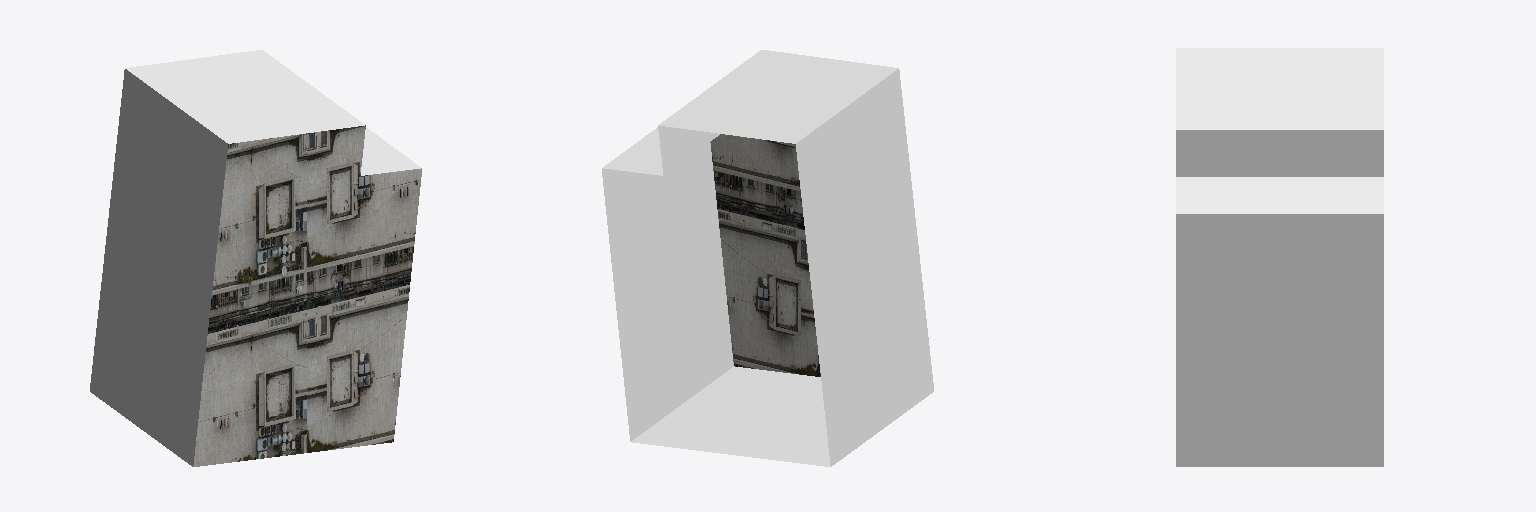
The picture shows the model from 3 angles: view 1: azimuth 30°, elevation 25°; view 2: azimuth 150°, elevation 25°; view 3: azimuth 270°, elevation 25°; orthographic projection.
Parts seen in each view (by area): view 1: Building; view 2: Building; view 3: Building.
Part boxes in pixels (x1,y1,x2,y2): Building: (90,50,421,466); Building: (602,50,933,466); Building: (1176,48,1383,466).
Size of the model in its own units: 22.98 by 32.44 by 18.
Materials: 2 (1 with a texture image).